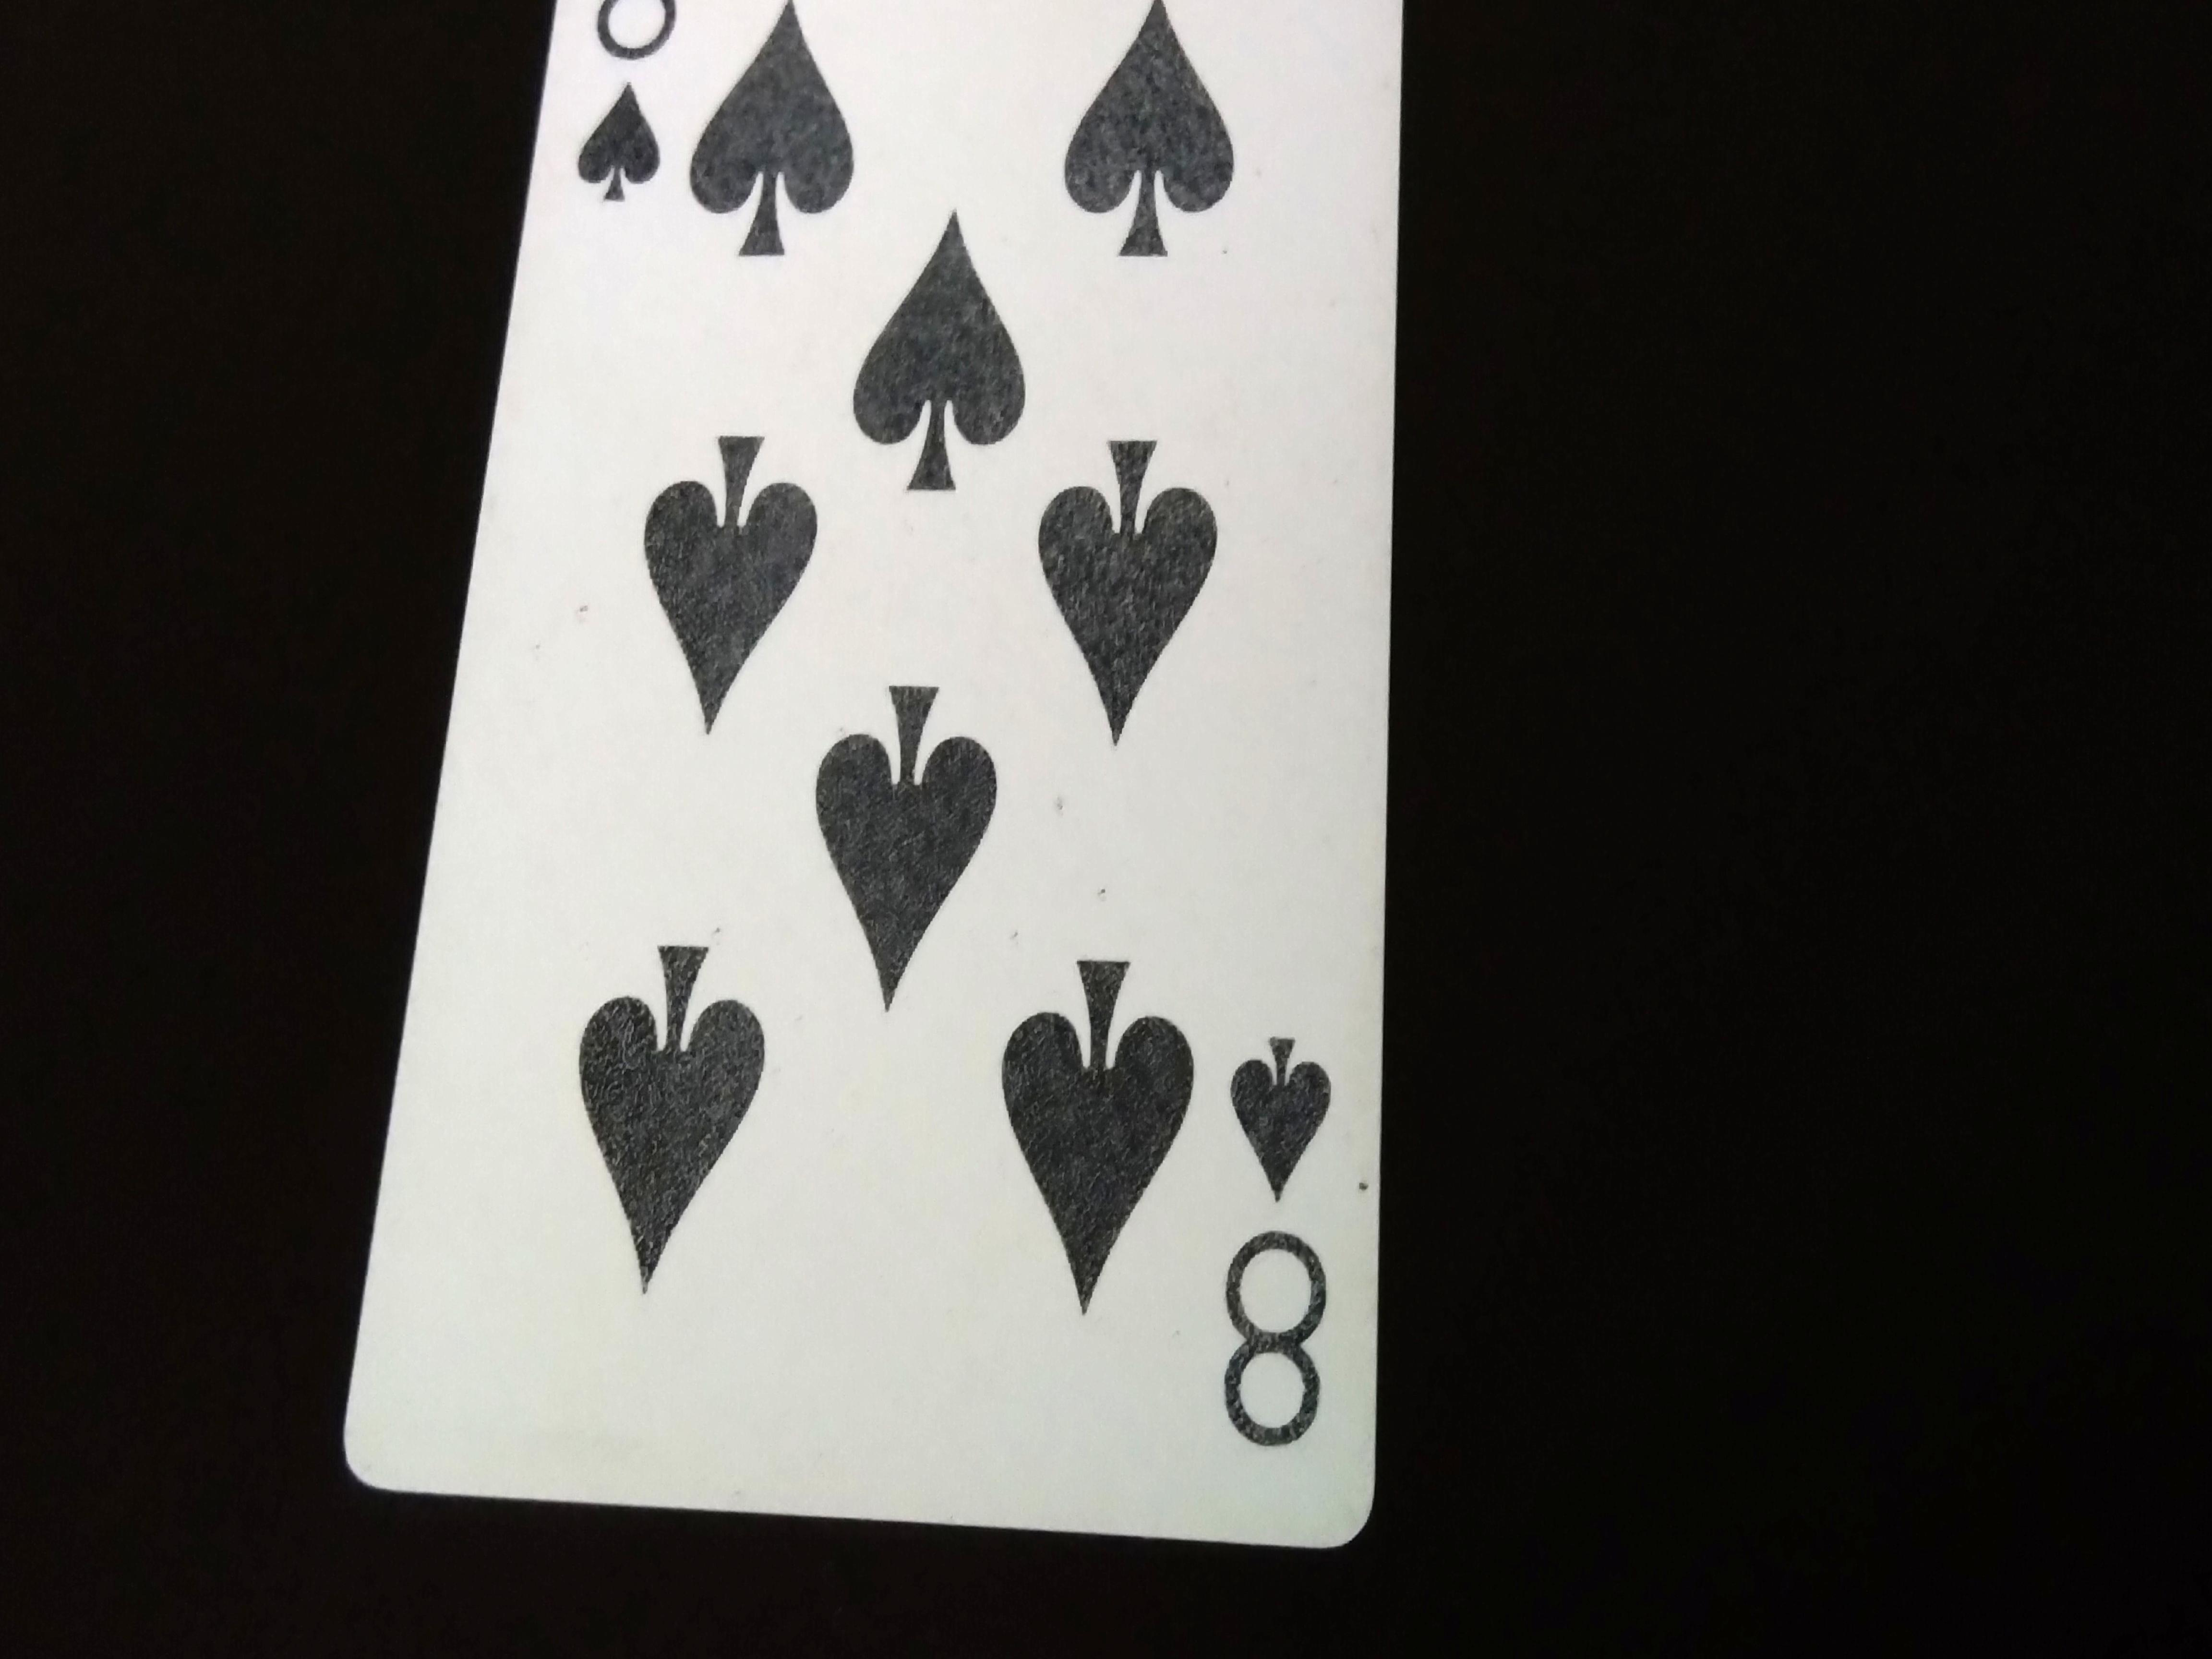8S: (1219, 1016, 1352, 1466)
